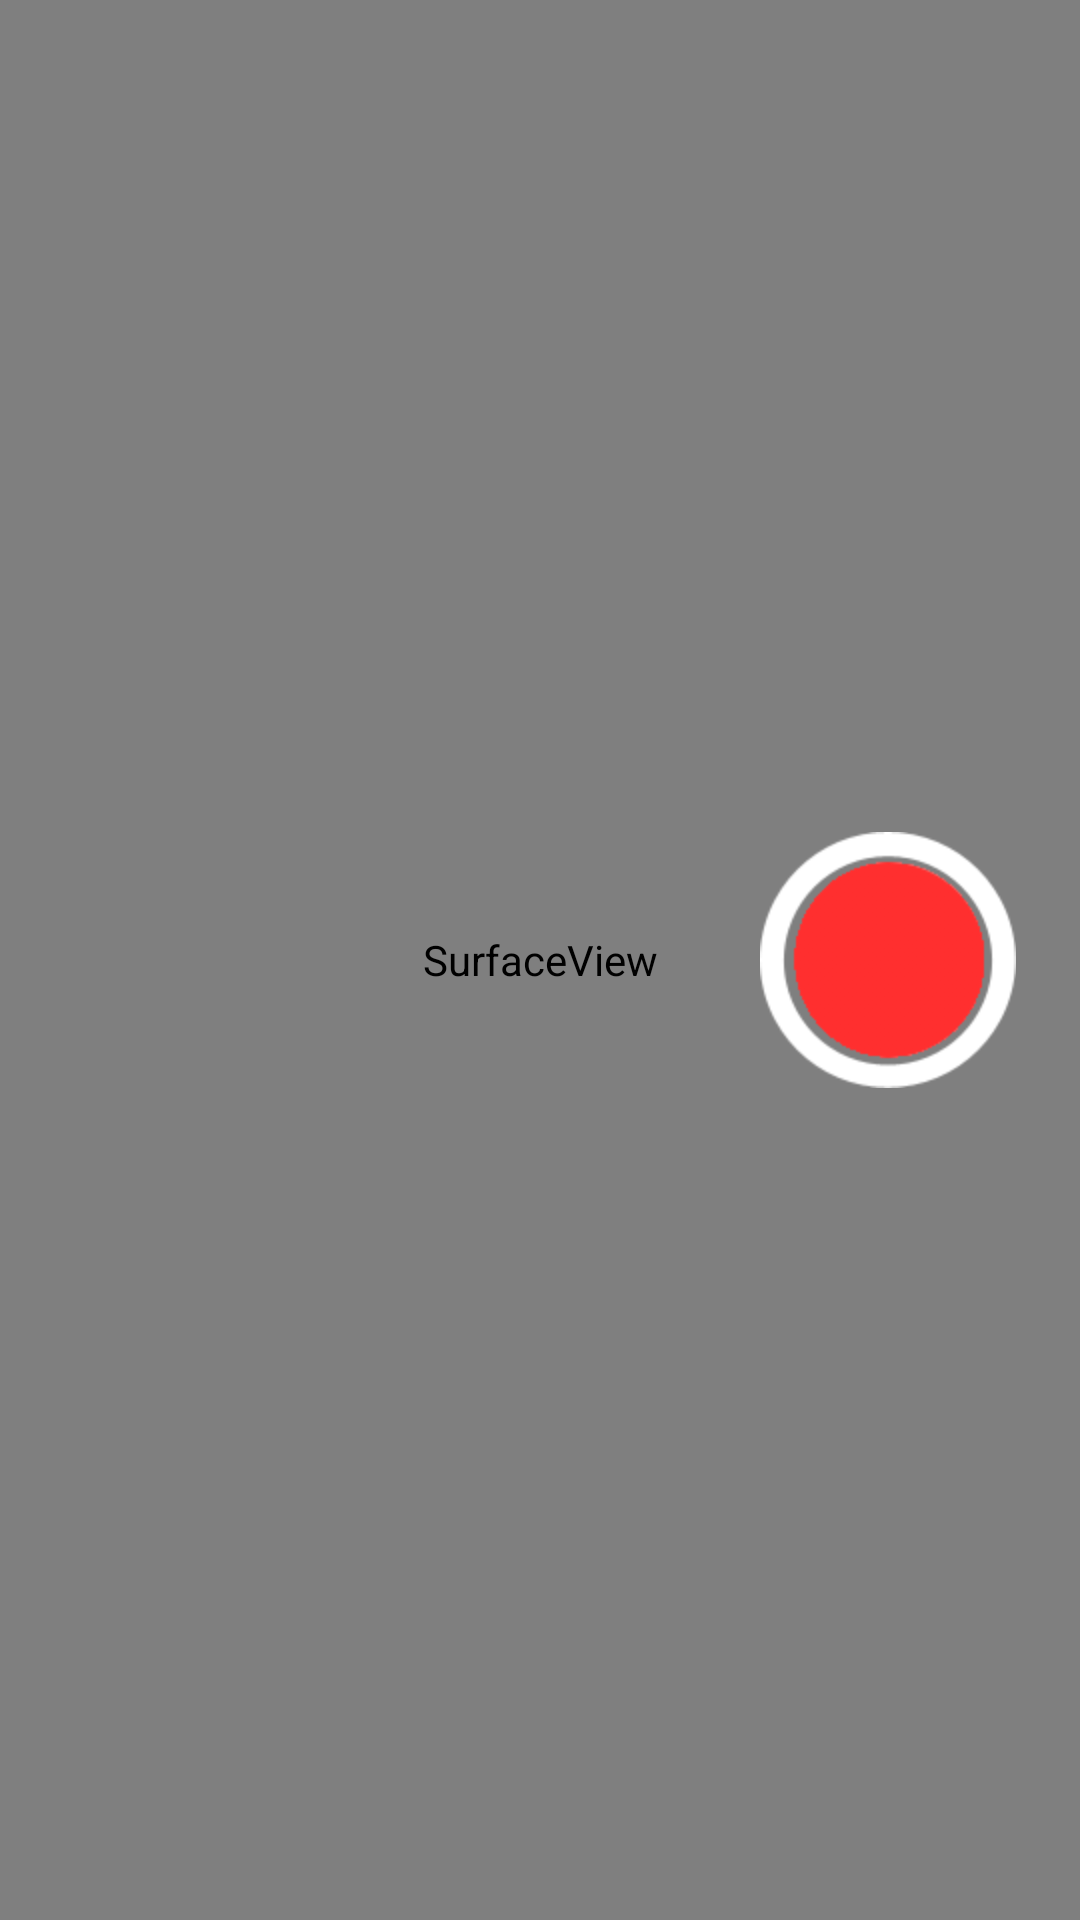

Where to tap for icons on this 1080 x 1920 app screen, as (x,y):
luxiang: (888,960)
